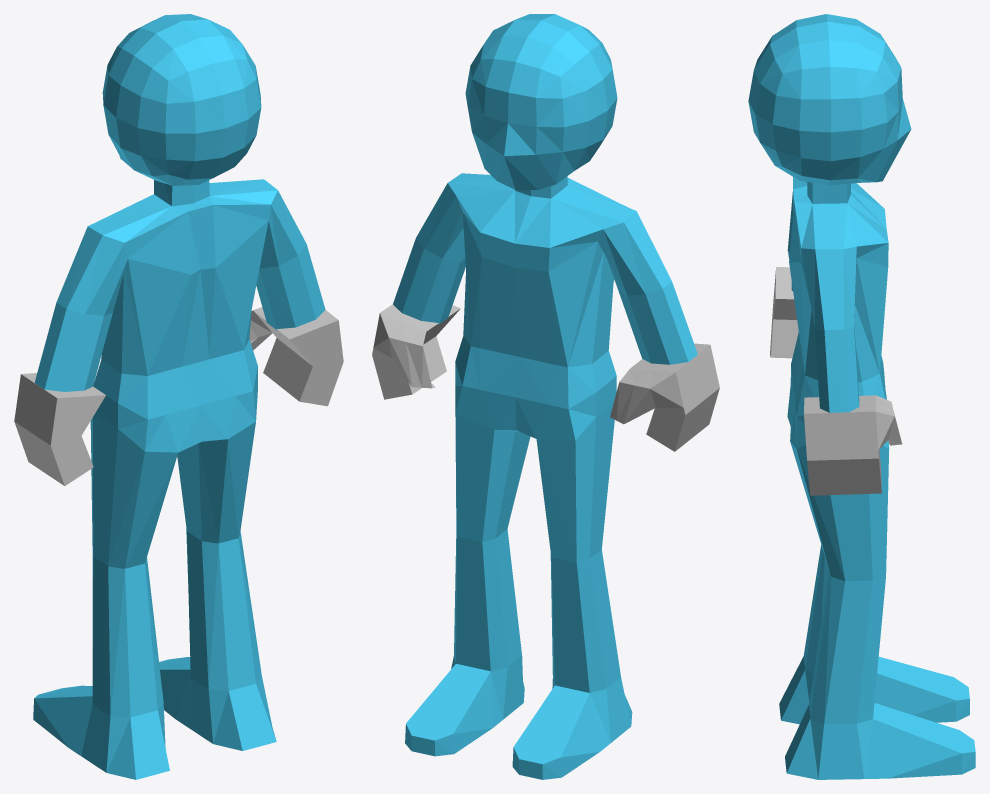
File: Player2.obj
3 views of the same model, side by side, from view 1: azimuth 30°, elevation 25°; view 2: azimuth 150°, elevation 25°; view 3: azimuth 270°, elevation 25° (orthographic). The views are drawn at different scales.
Parts seen in each view (by area): view 1: 立方体; view 2: 立方体; view 3: 立方体.
Boxes of the visible parts, bbox=[...] form: 立方体: bbox=[14, 14, 343, 779]; 立方体: bbox=[372, 14, 719, 779]; 立方体: bbox=[748, 14, 975, 779].
Bounding box in the file's own units: 3.45 × 7.7 × 2.21.
